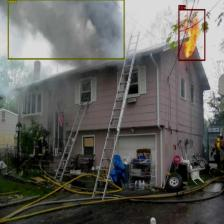fire: (179, 8, 205, 60)
smoke: (8, 0, 124, 59)
